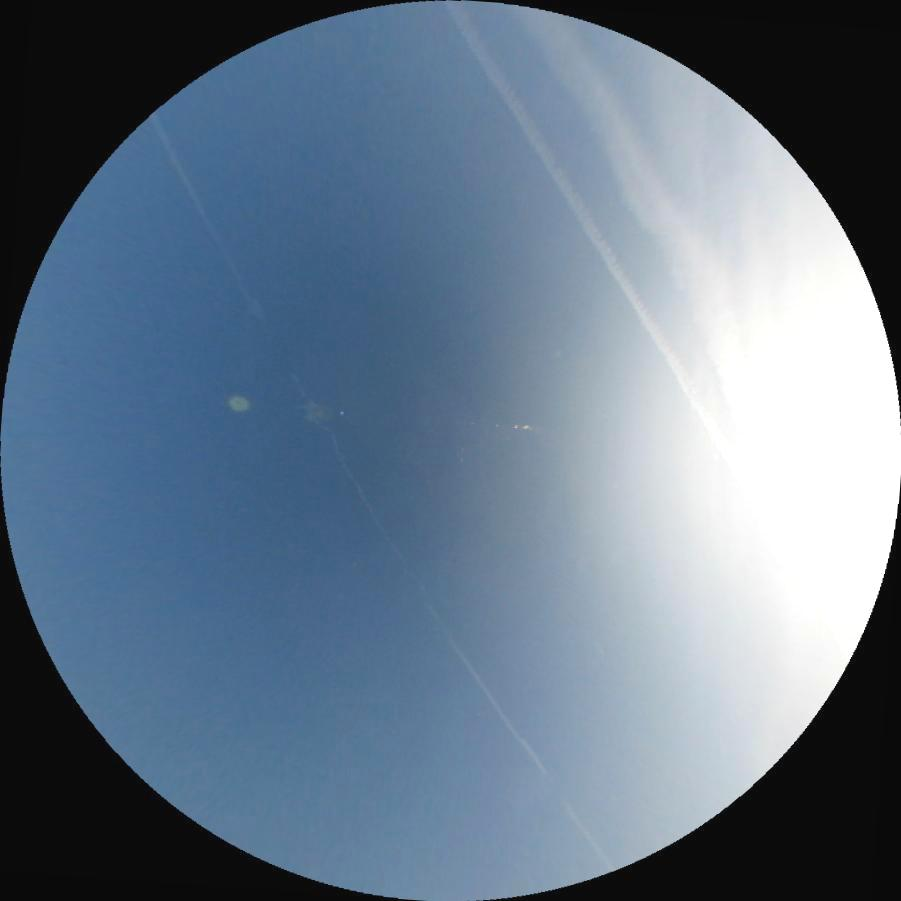contrail old: (134, 109, 615, 882), (441, 0, 861, 657)
contrail veryold: (508, 0, 897, 621)
